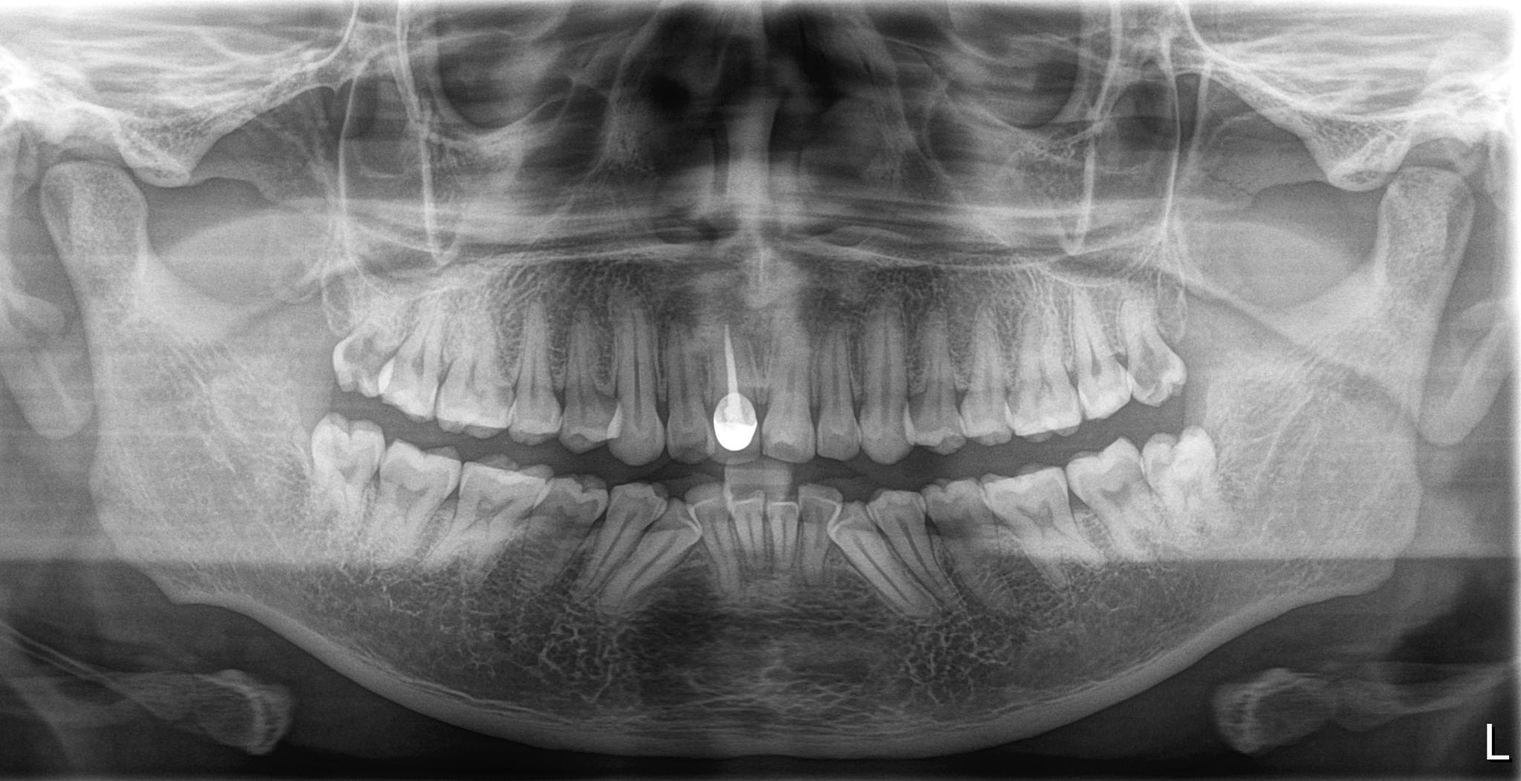Dental Caries: (1123, 343, 1192, 401), (349, 353, 399, 396)
Endodontically Treated Tooth: (696, 345, 764, 455)
Impacted Third Molar: (342, 323, 388, 406)
Periapical Lesion: (729, 538, 803, 597)
